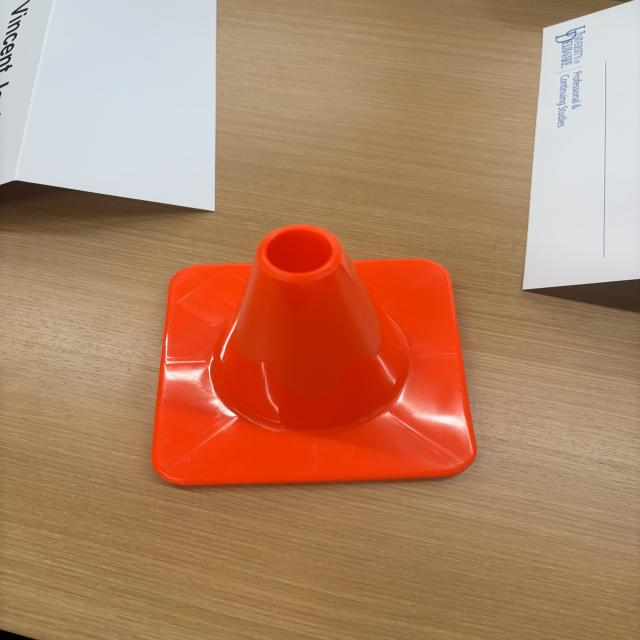Traffic Cone: (137, 223, 492, 507)
